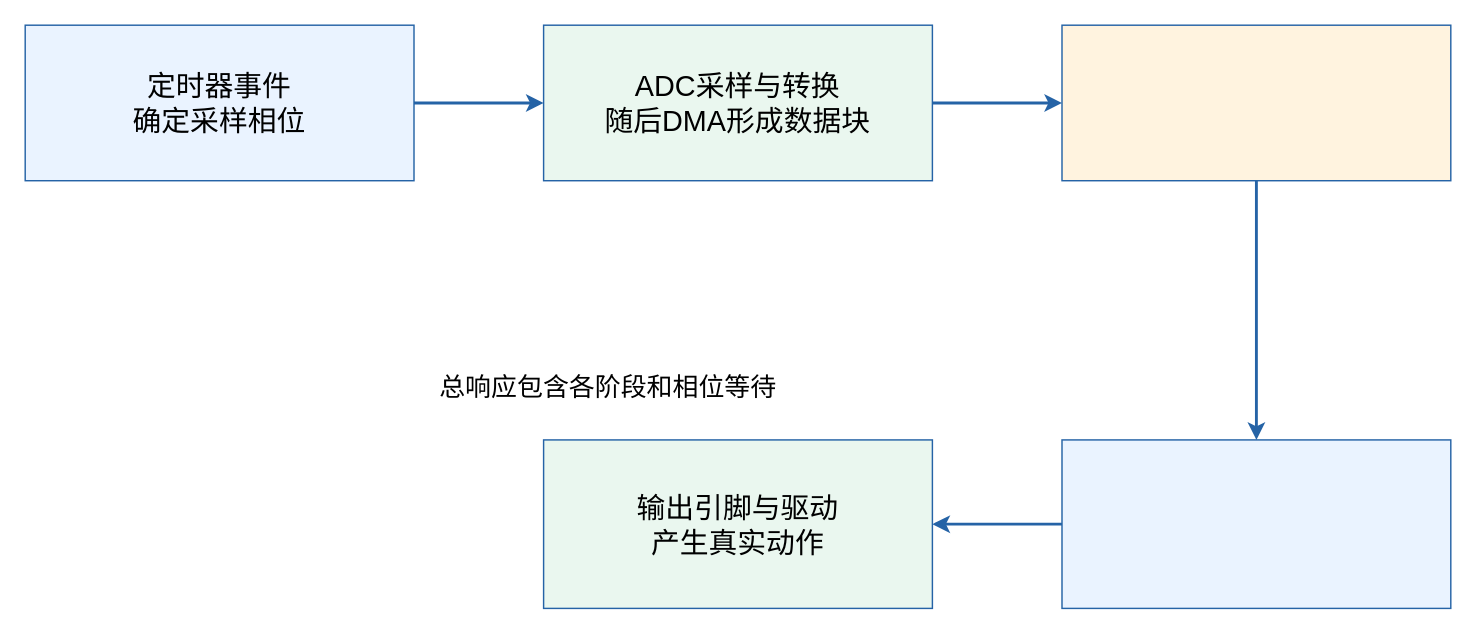
The diagram is 1476 pixels wide and 634 high, and some of its shapes have lost their labels. The centre of each missing label's shape, as x and y in pixels:
"ISR通知任务 等待调度与计算" belongs at [1256,102].
"写CCR预装载 等待有效更新" belongs at [1256,523].
